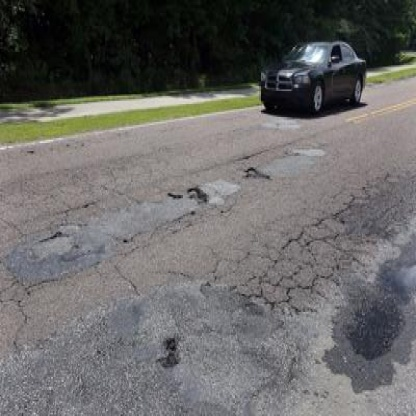pothole: (161, 185, 219, 213), (154, 334, 183, 372), (239, 162, 273, 185)
